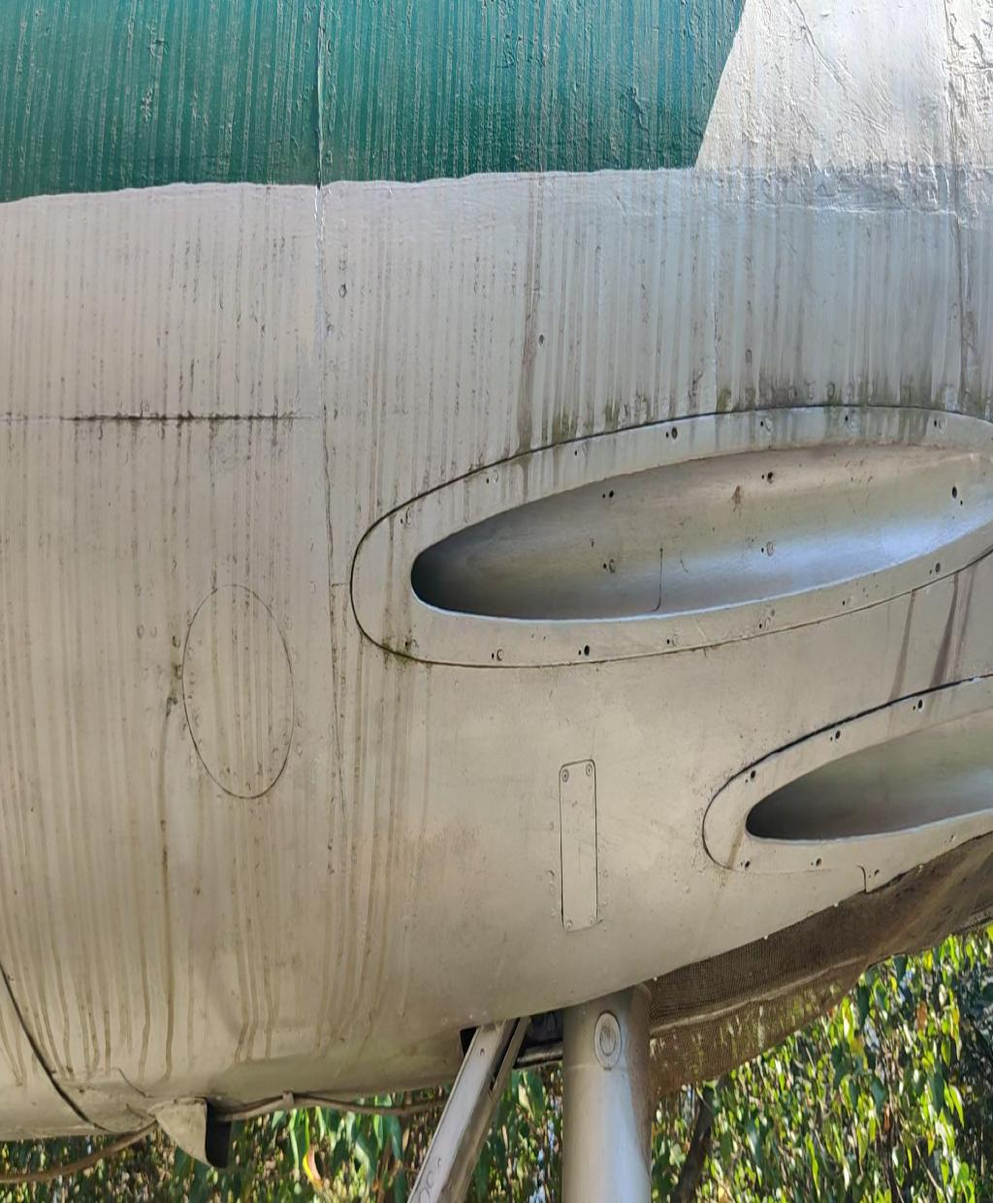dent: (180, 927, 255, 1081)
